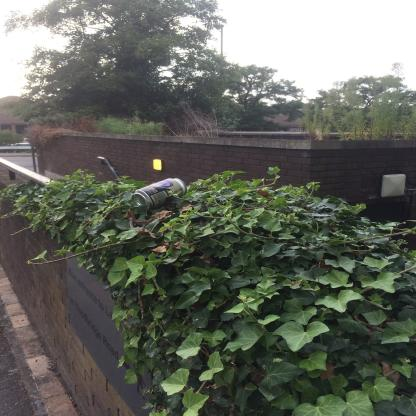trash: (131, 177, 189, 211)
